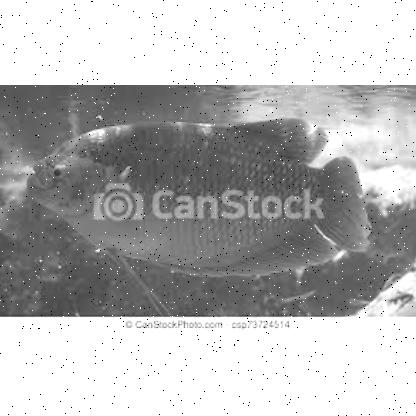gurame: (29, 121, 360, 273)
